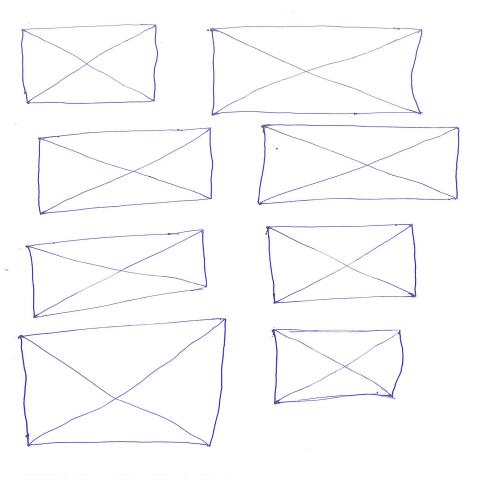Image: (18, 317, 229, 449), (210, 25, 423, 118), (257, 123, 463, 207), (27, 227, 209, 319), (37, 126, 216, 216), (268, 222, 421, 306), (19, 24, 160, 107), (273, 327, 405, 407)
